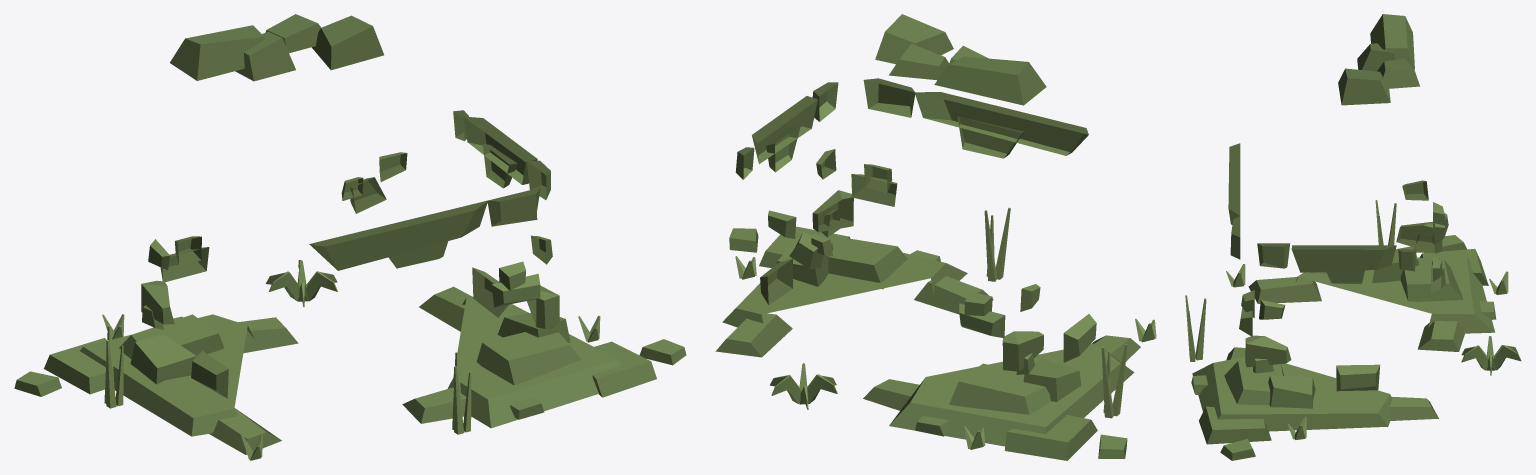
The model's file is SA_Bld_StoreSmall_Growth_01.gltf.
The picture shows the model from 3 angles, left to right: view 1: azimuth 30°, elevation 25°; view 2: azimuth 150°, elevation 25°; view 3: azimuth 270°, elevation 25°; orthographic projection. The views are drawn at different scales.
Visible parts, largest first — view 1: SA_Bld_StoreSmall_Growth_01; view 2: SA_Bld_StoreSmall_Growth_01; view 3: SA_Bld_StoreSmall_Growth_01.
Boxes of the visible parts, box(x1,y1,x2,y2) form: SA_Bld_StoreSmall_Growth_01: box(14, 14, 686, 460); SA_Bld_StoreSmall_Growth_01: box(715, 14, 1156, 460); SA_Bld_StoreSmall_Growth_01: box(1185, 14, 1521, 460).
Size of the model in its own units: 15.39 by 9.4 by 9.96.
1 material, 1 textured.
